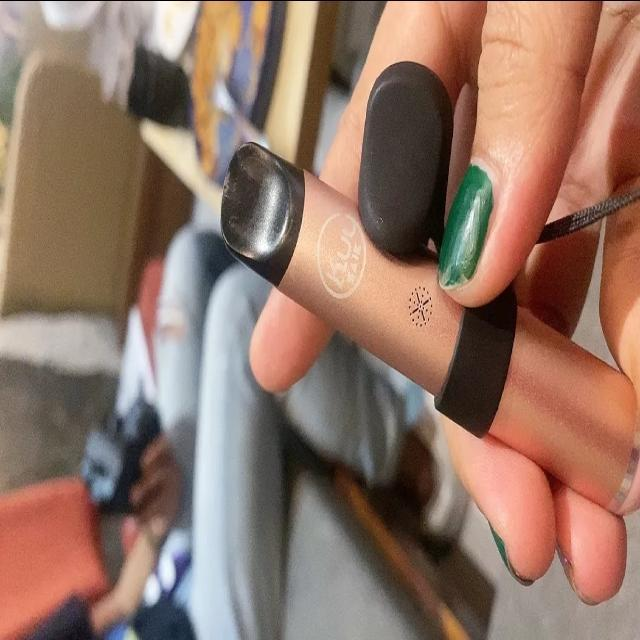Hazard: (219, 138, 640, 516)
